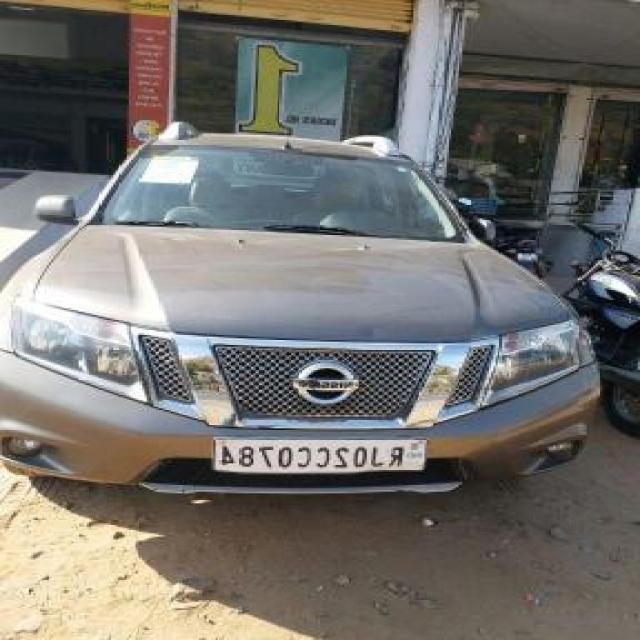number-plate: (198, 430, 436, 490)
